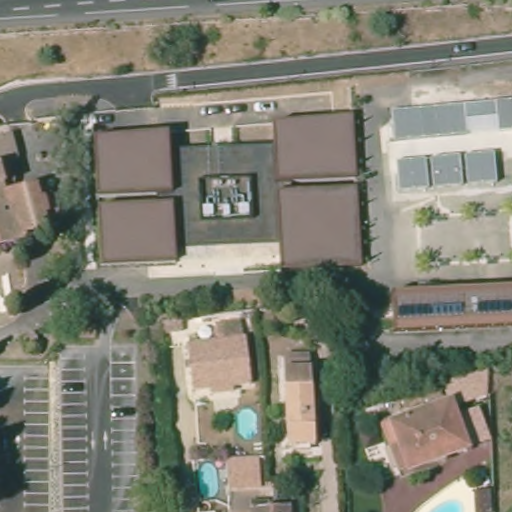pool: (413, 480, 479, 512), (194, 455, 223, 504), (234, 405, 262, 440)
